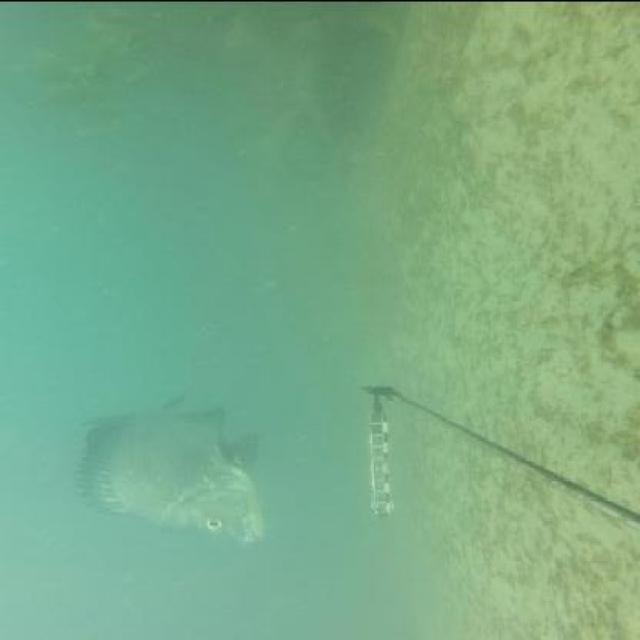acanthopagrus_palmaris: (72, 393, 273, 544)
